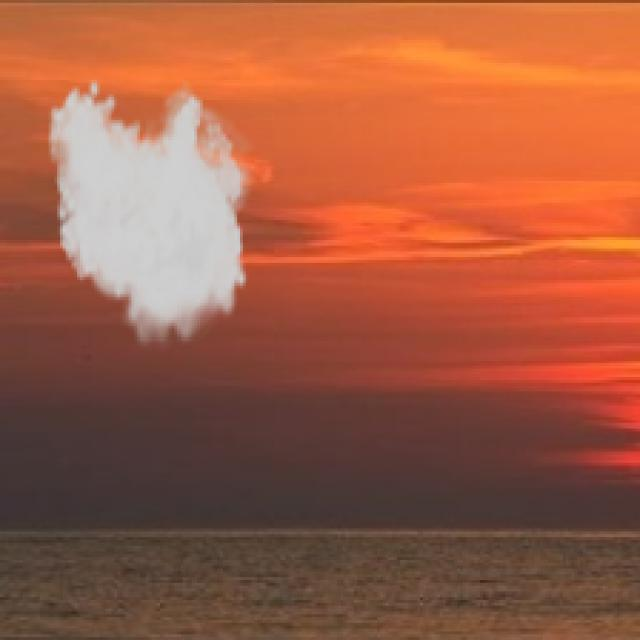smoke: (46, 77, 260, 354)
